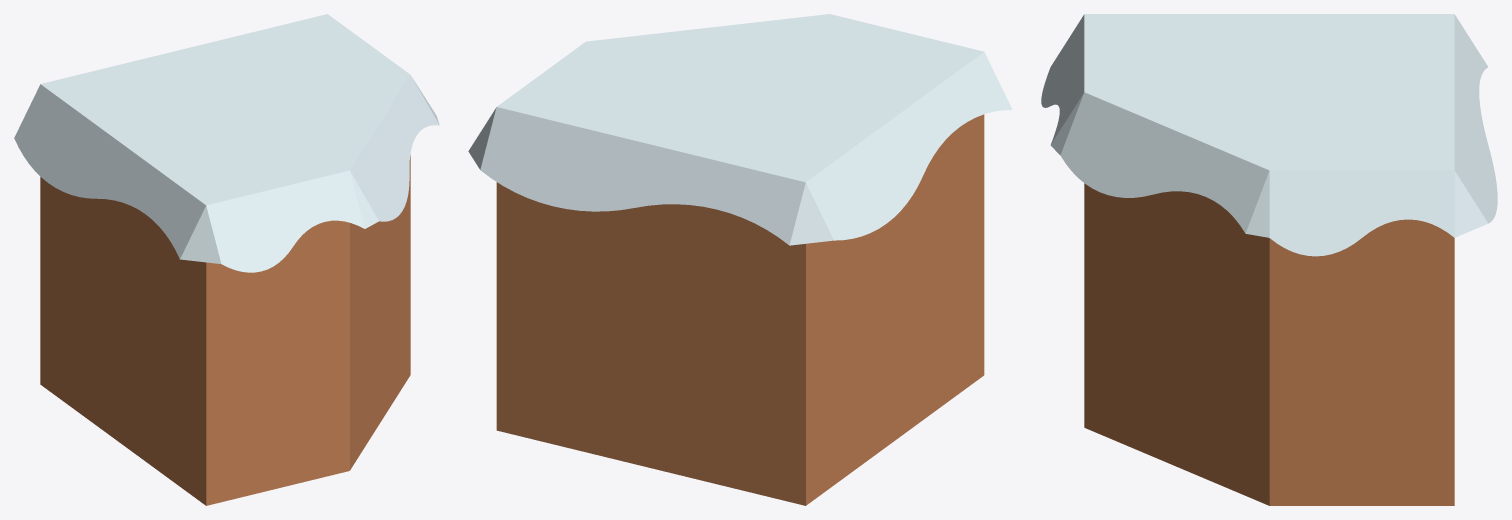
File: blockSnowCornerSmall.dae
3 renders of one model, left to right at view 1: azimuth 30°, elevation 25°; view 2: azimuth 150°, elevation 25°; view 3: azimuth 270°, elevation 25°, orthographic. The views are drawn at different scales.
Visible parts, largest first — view 1: blockSnowCornerSmall; view 2: blockSnowCornerSmall; view 3: blockSnowCornerSmall.
Part boxes in pixels (<box>): blockSnowCornerSmall: <box>14,14,439,505</box>; blockSnowCornerSmall: <box>468,14,1012,505</box>; blockSnowCornerSmall: <box>1041,14,1497,505</box>.
Bounding box in the file's own units: 1.23 × 1 × 1.23.
